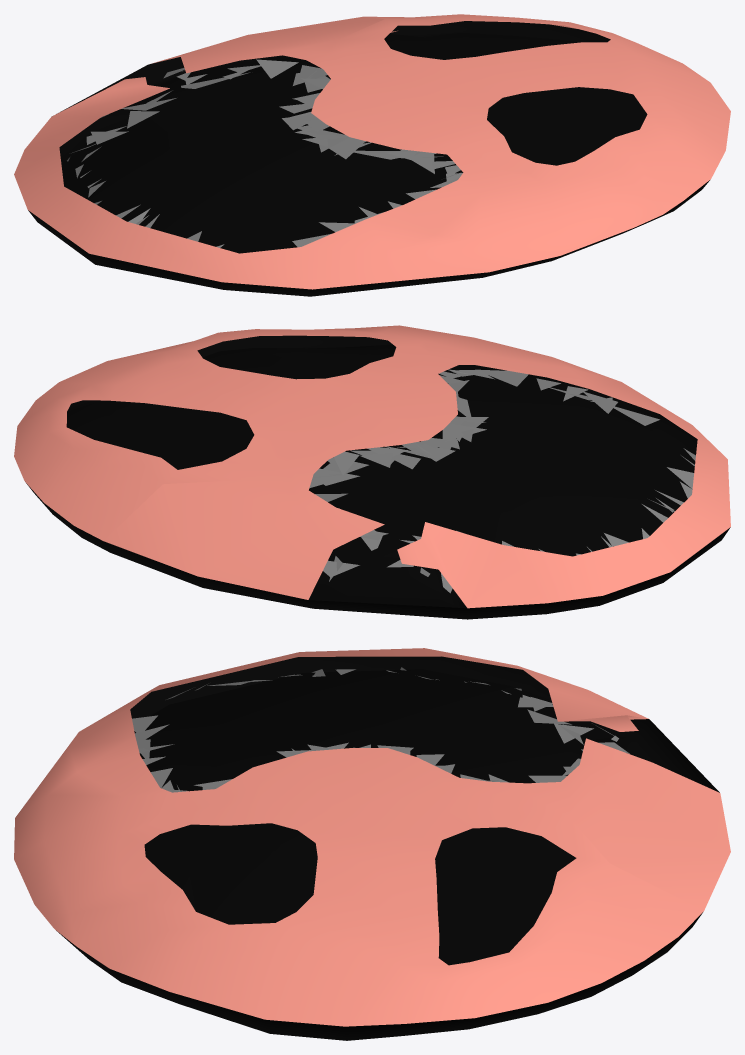
Rendered from Mask_05.fbx.
3 renders of one model, top to bottom at view 1: azimuth 30°, elevation 25°; view 2: azimuth 150°, elevation 25°; view 3: azimuth 270°, elevation 25°, orthographic. The views are drawn at different scales.
Parts seen in each view (by area): view 1: Masks_05; view 2: Masks_05; view 3: Masks_05.
Boxes of the visible parts, x1,y1,x2,y2 form: Masks_05: (14, 14, 730, 296); Masks_05: (14, 325, 730, 619); Masks_05: (14, 648, 730, 1040).
Size of the model in its own units: 64.21 by 6.31 by 52.5.
